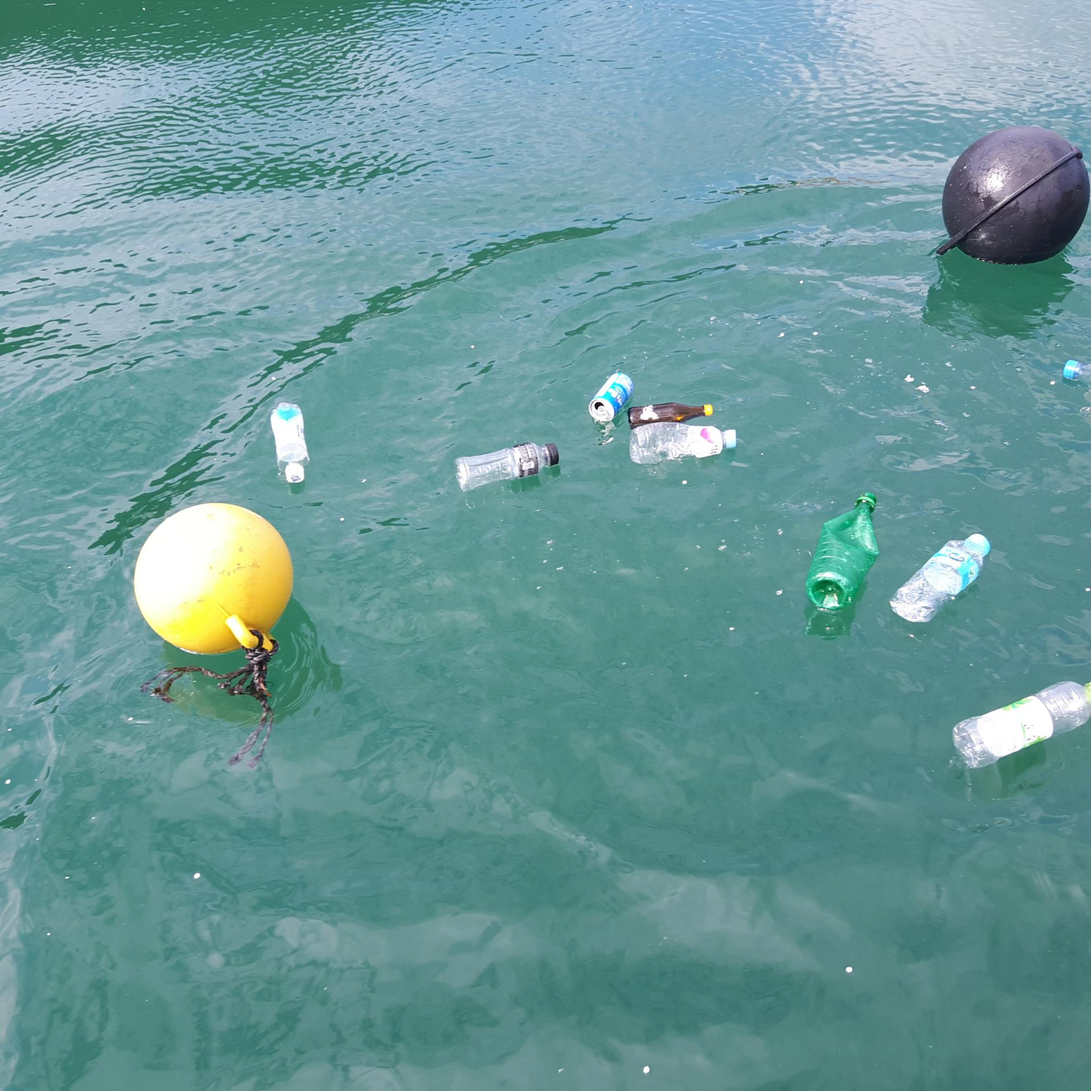sampah_terapung: (134, 503, 294, 655), (935, 126, 1091, 266), (141, 649, 280, 770), (953, 681, 1091, 770), (889, 534, 991, 623), (806, 492, 881, 611), (455, 442, 560, 493), (630, 422, 737, 466), (270, 402, 311, 484), (627, 403, 714, 431), (589, 373, 634, 422), (1063, 360, 1091, 389)
